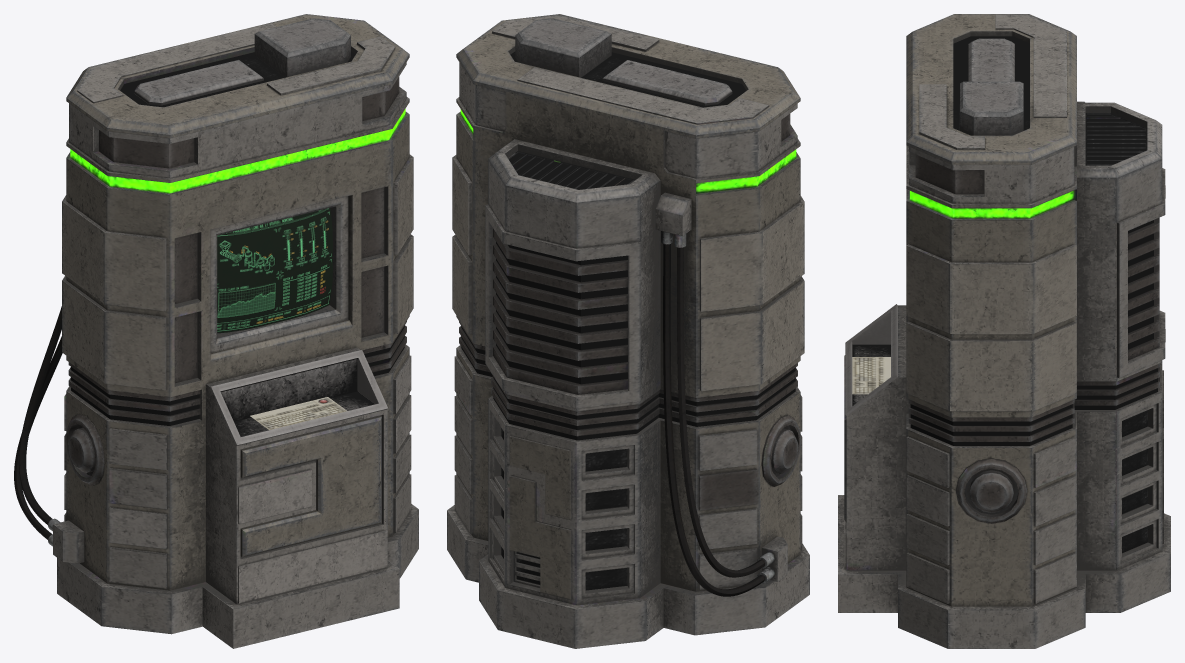
The model's file is radar-terminal.glb.
The picture shows the model from 3 angles, left to right: view 1: azimuth 30°, elevation 25°; view 2: azimuth 150°, elevation 25°; view 3: azimuth 270°, elevation 25°; orthographic projection. The views are drawn at different scales.
Visible parts, largest first — view 1: console_0, screen_1, keyboard_2; view 2: console_0; view 3: console_0, keyboard_2.
Part boxes in pixels (x1,y1,x2,y2): console_0: (14, 14, 418, 648); screen_1: (217, 208, 332, 333); keyboard_2: (250, 397, 347, 429); console_0: (447, 14, 809, 648); console_0: (838, 14, 1170, 648); keyboard_2: (852, 357, 890, 394).
Bounding box in the file's own units: 2.08 × 3.14 × 1.86.
Materials: 3 (3 with a texture image).
